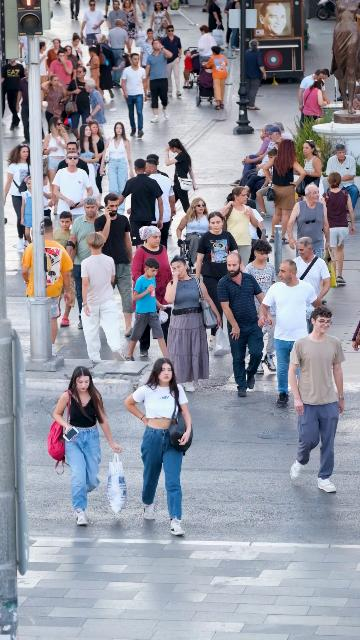person: (124, 357, 193, 537), (52, 366, 123, 526), (287, 305, 345, 494), (258, 260, 318, 409), (164, 255, 222, 393), (217, 254, 264, 398), (21, 217, 73, 347), (93, 193, 134, 339), (196, 212, 240, 347), (80, 232, 125, 362), (131, 225, 172, 357), (125, 258, 173, 361), (241, 239, 277, 373), (263, 139, 306, 244), (117, 159, 164, 254), (286, 184, 331, 281), (67, 195, 99, 328), (320, 172, 355, 287), (214, 186, 259, 267), (98, 121, 134, 215), (51, 151, 95, 226), (239, 126, 281, 201), (3, 143, 31, 250), (144, 159, 176, 248), (52, 211, 76, 328), (292, 237, 332, 306), (176, 197, 211, 275), (164, 138, 198, 214), (229, 125, 270, 187), (243, 148, 278, 219), (120, 53, 148, 138), (145, 40, 173, 123), (326, 143, 359, 212), (66, 65, 92, 141), (41, 75, 73, 135), (76, 124, 102, 197), (298, 69, 331, 124), (42, 117, 69, 184), (202, 46, 229, 111), (135, 28, 159, 100), (161, 25, 183, 98), (245, 39, 267, 111), (300, 140, 324, 203), (87, 120, 106, 190), (244, 199, 267, 253), (301, 79, 331, 119), (48, 49, 74, 94), (56, 142, 90, 176), (108, 19, 132, 67), (85, 80, 108, 130), (80, 0, 105, 46), (97, 39, 115, 100), (150, 1, 172, 45), (87, 44, 105, 96), (196, 25, 216, 66), (41, 168, 57, 218), (112, 52, 128, 95), (64, 45, 83, 79), (182, 50, 198, 90), (46, 37, 65, 67), (107, 0, 126, 30), (147, 153, 169, 178), (39, 41, 50, 84), (94, 33, 111, 54), (352, 319, 360, 353), (104, 0, 111, 19)
